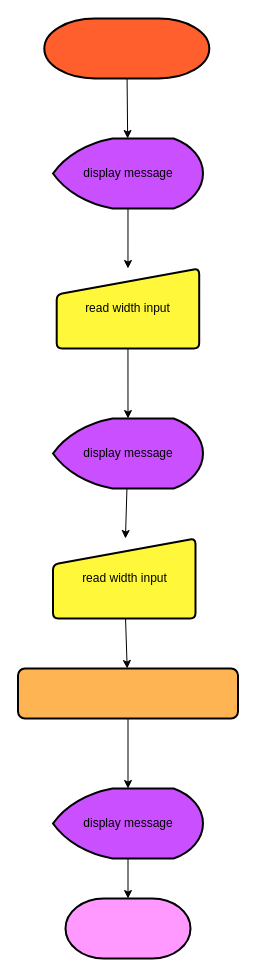
Some shapes in this 256 by 976 pixel diagram are drawn without their labels. The centre of each missing label's shape, as x and y in pixels:
calculate area: the point at 127,693
end: the point at 127,928
in strat: the point at 126,48
